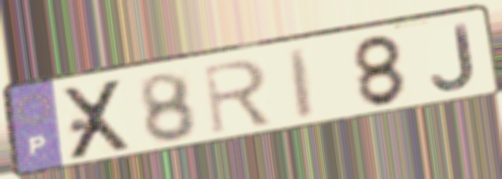8: (349, 33, 411, 110), (136, 71, 199, 145)
I: (285, 45, 318, 123)
J: (428, 21, 478, 93)
R: (200, 56, 276, 138)
X: (60, 75, 136, 164)
